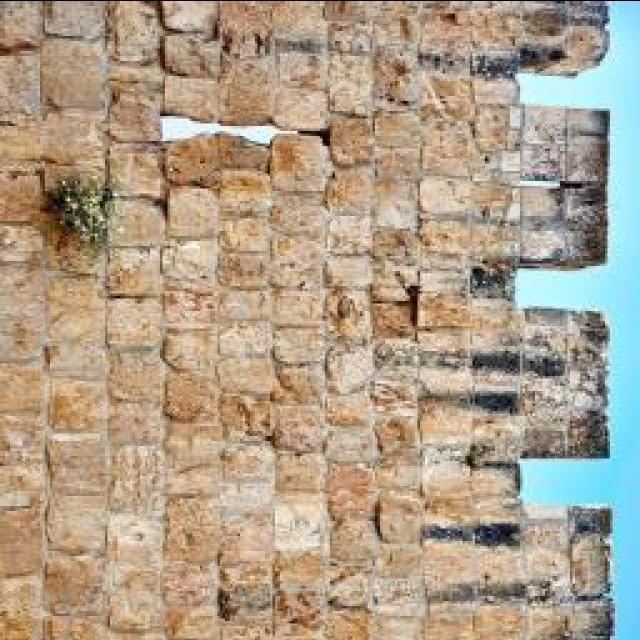Crack: (1, 1, 615, 638)
